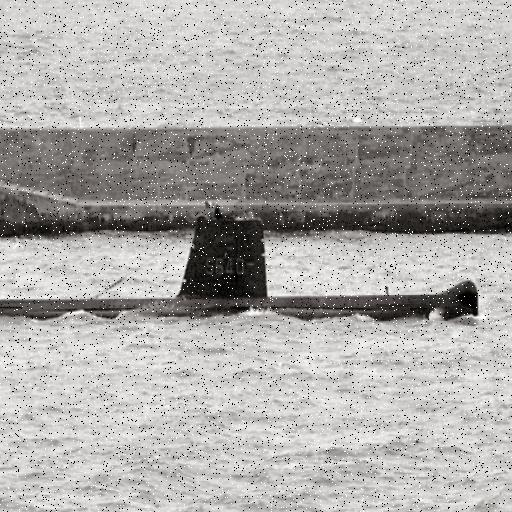submarine: (1, 225, 480, 316)
